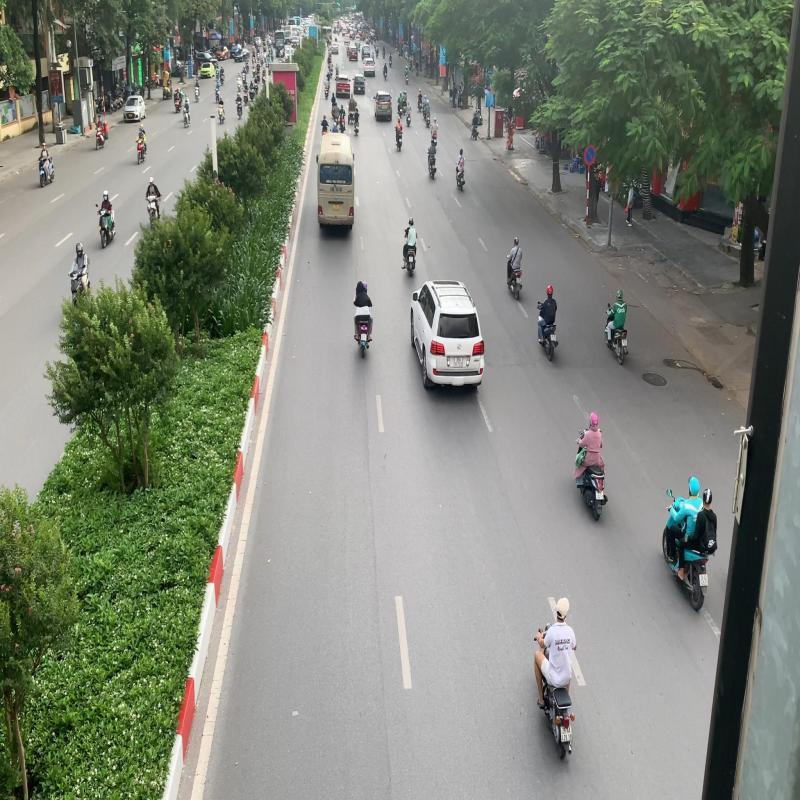licenseplate: (560, 726, 573, 742)
motorcyclist: (532, 594, 578, 765)
nohelmet: (556, 596, 570, 621)
